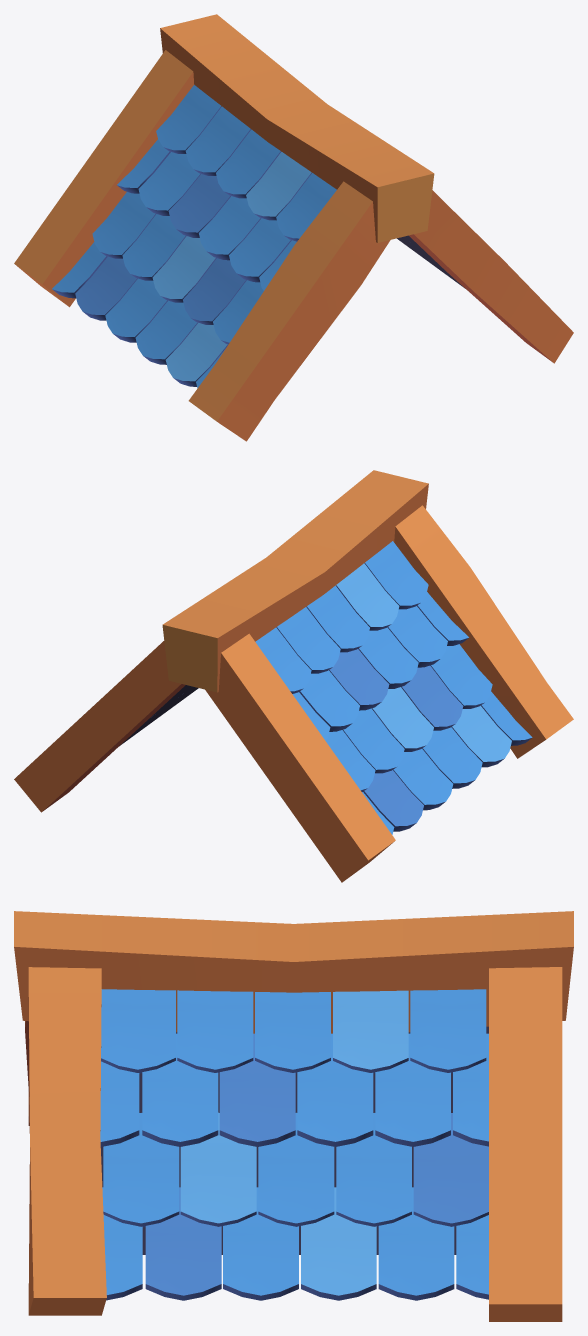
The model's file is Roof01_Blue_Wood.glb.
3 renders of one model, top to bottom at view 1: azimuth 30°, elevation 25°; view 2: azimuth 150°, elevation 25°; view 3: azimuth 270°, elevation 25°, orthographic. The views are drawn at different scales.
Parts seen in each view (by area): view 1: Roof01_Blue_Wood; view 2: Roof01_Blue_Wood; view 3: Roof01_Blue_Wood.
Boxes of the visible parts, left/top/right/bottom form: Roof01_Blue_Wood: left=14, top=14, right=573, bottom=441; Roof01_Blue_Wood: left=14, top=470, right=573, bottom=882; Roof01_Blue_Wood: left=14, top=911, right=573, bottom=1321.
Size of the model in its own units: 2.41 by 1.43 by 2.46.
Materials: 1 (1 with a texture image).
